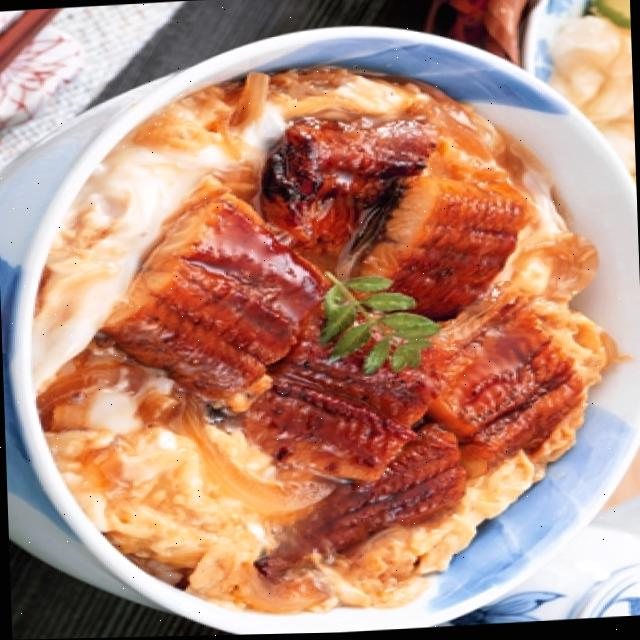熟制海鲜: (11, 13, 640, 640)
